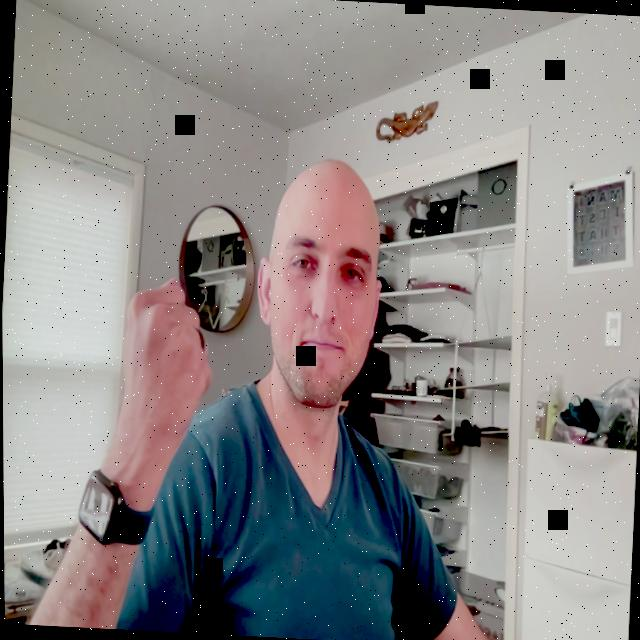Rock: (116, 270, 217, 430)
